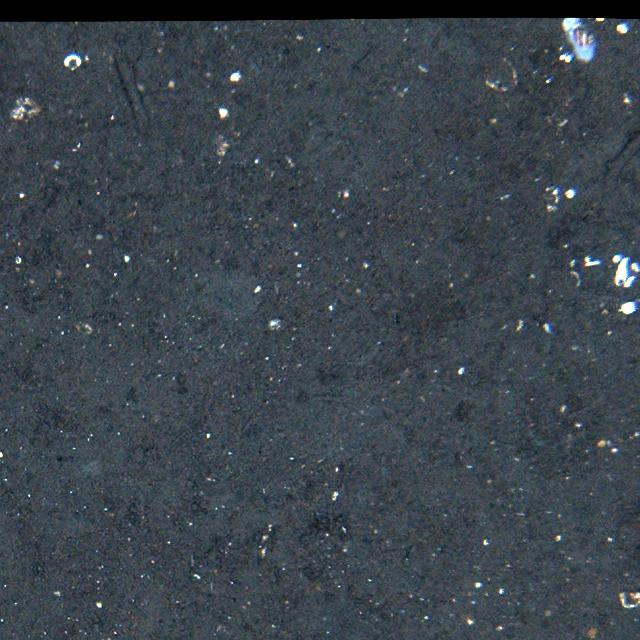whelk: (574, 27, 597, 48)
